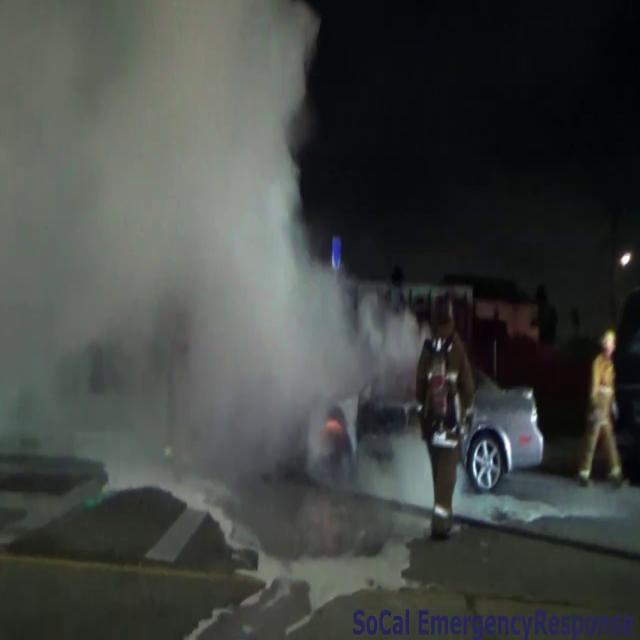Smoke: (0, 1, 408, 486)
